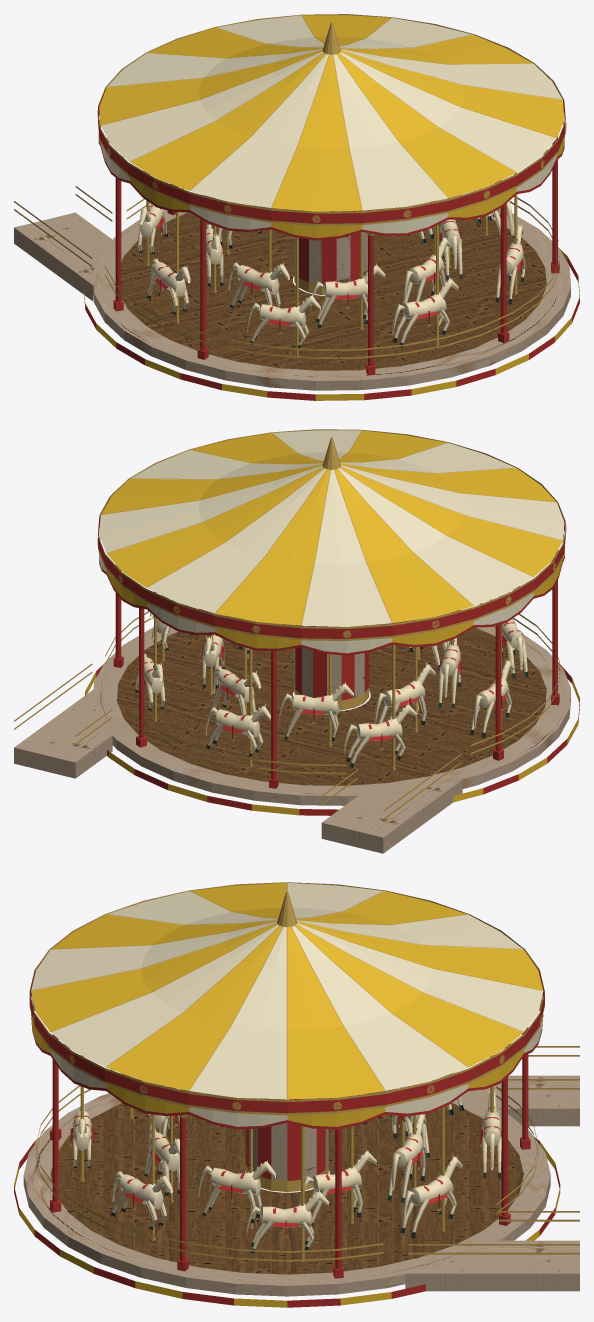
File: body.glb
3 renders of one model, top to bottom at view 1: azimuth 30°, elevation 25°; view 2: azimuth 150°, elevation 25°; view 3: azimuth 270°, elevation 25°, orthographic. The views are drawn at different scales.
Visible parts, largest first — view 1: Roof_Canopy_Panels, Rotating_Deck_Floor, Static_Deck_Border, Roof_Fascia_Frieze, Roof_Valance_Scallops, Static_Deck_Extensions, Foundation_Skirt, Central_Column_Mast, Perimeter_Railings, Horse_00, Horse_14, Horse_15 (+12 smaller); view 2: Roof_Canopy_Panels, Rotating_Deck_Floor, Static_Deck_Border, Static_Deck_Extensions, Roof_Fascia_Frieze, Roof_Valance_Scallops, Central_Column_Mast, Perimeter_Railings, Foundation_Skirt, Horse_10, Horse_08, Horse_09 (+12 smaller); view 3: Roof_Canopy_Panels, Rotating_Deck_Floor, Static_Deck_Border, Static_Deck_Extensions, Roof_Fascia_Frieze, Roof_Valance_Scallops, Central_Column_Mast, Perimeter_Railings, Foundation_Skirt, Horse_04, Horse_06, Horse_02 (+12 smaller).
Part boxes in pixels (x1=…): Roof_Canopy_Panels: x1=99, y1=15, x2=564, y2=211; Rotating_Deck_Floor: x1=121, y1=205, x2=546, y2=370; Static_Deck_Border: x1=92, y1=195, x2=570, y2=390; Roof_Fascia_Frieze: x1=98, y1=14, x2=565, y2=225; Roof_Valance_Scallops: x1=98, y1=117, x2=564, y2=240; Static_Deck_Extensions: x1=14, y1=194, x2=461, y2=301; Foundation_Skirt: x1=84, y1=249, x2=579, y2=400; Central_Column_Mast: x1=294, y1=210, x2=369, y2=295; Perimeter_Railings: x1=14, y1=184, x2=559, y2=358; Horse_00: x1=392, y1=224, x2=459, y2=347; Horse_14: x1=247, y1=237, x2=321, y2=358; Horse_15: x1=310, y1=210, x2=386, y2=329; Roof_Canopy_Panels: x1=99, y1=430, x2=564, y2=626; Rotating_Deck_Floor: x1=117, y1=616, x2=546, y2=785; Static_Deck_Border: x1=92, y1=610, x2=570, y2=805; Static_Deck_Extensions: x1=14, y1=690, x2=462, y2=853; Roof_Fascia_Frieze: x1=98, y1=429, x2=565, y2=640; Roof_Valance_Scallops: x1=98, y1=533, x2=564, y2=655; Central_Column_Mast: x1=294, y1=625, x2=369, y2=710; Perimeter_Railings: x1=14, y1=599, x2=559, y2=819; Foundation_Skirt: x1=85, y1=662, x2=579, y2=815; Horse_10: x1=344, y1=644, x2=418, y2=770; Horse_08: x1=205, y1=648, x2=270, y2=766; Horse_09: x1=279, y1=654, x2=355, y2=746; Roof_Canopy_Panels: x1=31, y1=882, x2=543, y2=1099; Rotating_Deck_Floor: x1=50, y1=1087, x2=523, y2=1274; Static_Deck_Border: x1=23, y1=1082, x2=550, y2=1296; Static_Deck_Extensions: x1=405, y1=1075, x2=579, y2=1291; Roof_Fascia_Frieze: x1=29, y1=882, x2=544, y2=1115; Roof_Valance_Scallops: x1=31, y1=996, x2=543, y2=1129; Central_Column_Mast: x1=245, y1=1098, x2=328, y2=1191; Perimeter_Railings: x1=36, y1=1046, x2=579, y2=1261; Foundation_Skirt: x1=14, y1=1137, x2=560, y2=1307; Horse_04: x1=246, y1=1126, x2=330, y2=1261; Horse_06: x1=400, y1=1076, x2=463, y2=1238; Horse_02: x1=110, y1=1114, x2=173, y2=1241.
Bounding box in the file's own units: 11.2 × 6.8 × 11.6.
8 materials, 2 textured.
